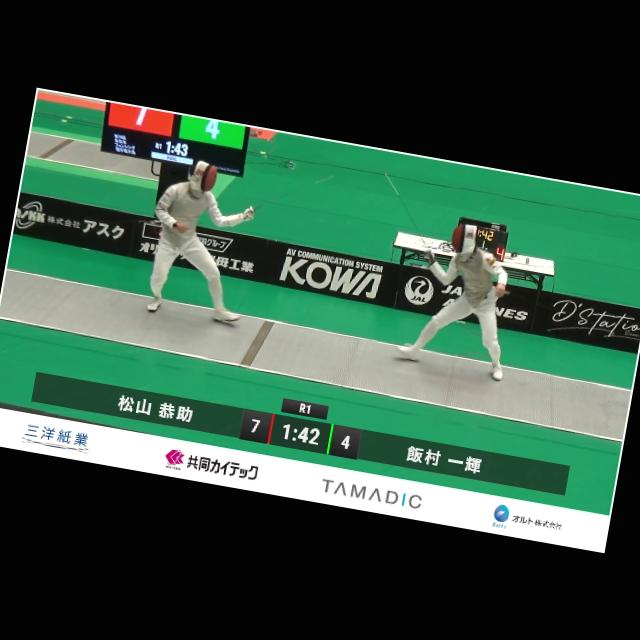blade: (366, 169, 446, 258), (242, 158, 336, 233)
